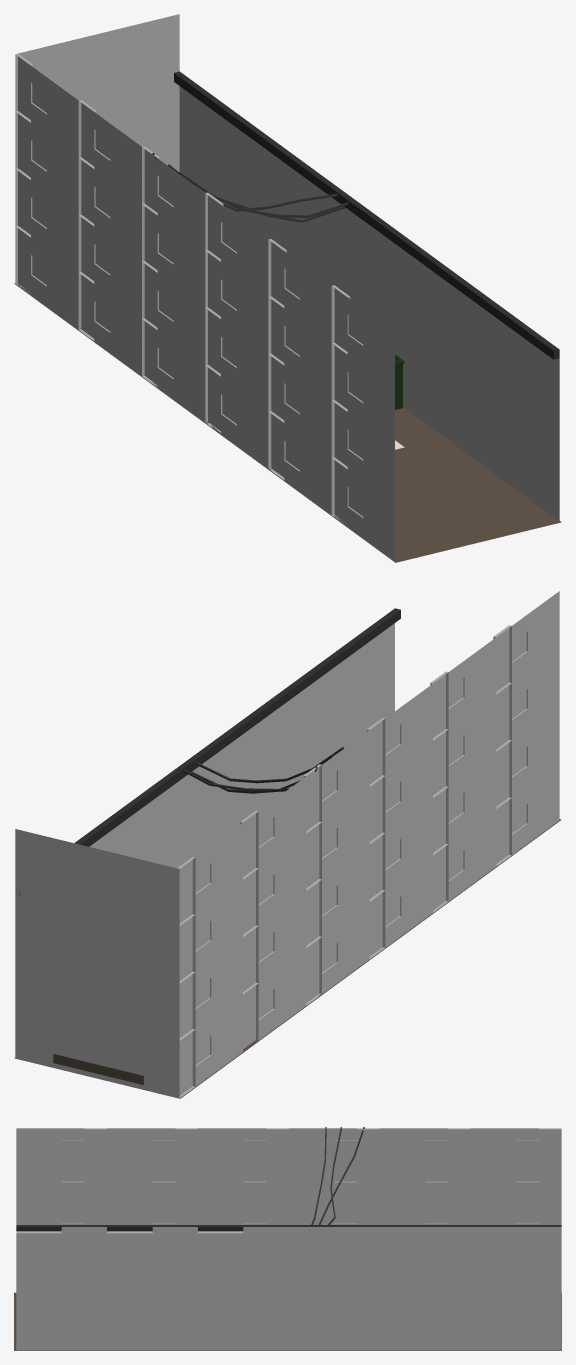
Rendered from Alley2.0.fbx.
3 views of the same model, one above another, from view 1: azimuth 30°, elevation 25°; view 2: azimuth 150°, elevation 25°; view 3: azimuth 270°, elevation 25° (orthographic). The views are drawn at different scales.
Visible parts, largest first — view 1: Plane.053, Plane.144, Floor, Plane.100, Plane.150, wire; view 2: Plane.053, Plane.100, Plane.144, Plane.150, wire, Cube.007, Floor; view 3: Plane.144, Plane.053, Plane.150, Floor, wire.
Boxes of the visible parts, x1,y1,x2,y2 form: Plane.053: (15,53,394,561); Plane.144: (179,86,559,521); Floor: (14,283,561,562); Plane.100: (15,14,179,283); Plane.150: (174,71,559,359); wire: (152,152,348,222); Plane.053: (177,591,559,1098); Plane.100: (15,829,179,1097); Plane.144: (89,623,394,868); Plane.150: (16,608,400,896); wire: (184,747,344,793); Cube.007: (53,1054,143,1084); Floor: (14,819,561,1098); Plane.144: (16,1227,561,1350); Plane.053: (16,1128,561,1224); Plane.150: (16,1225,561,1231); Floor: (14,1292,561,1350); wire: (311,1127,364,1224).
Bounding box in the file's own units: 607 × 814 × 2412.
